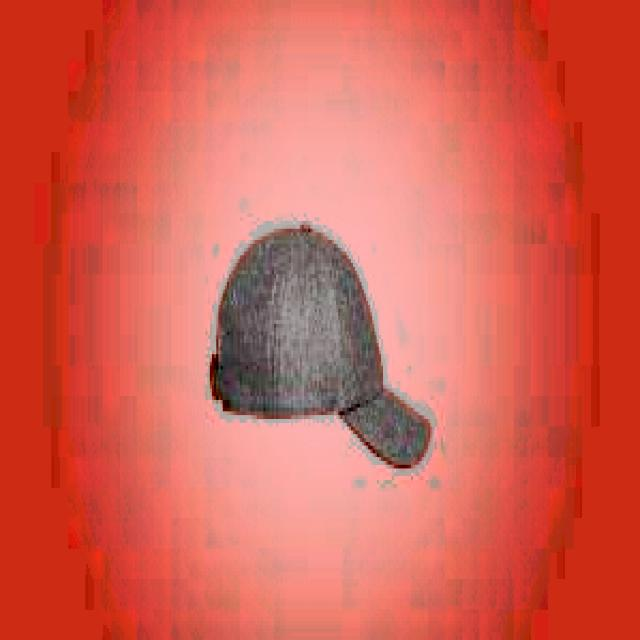TOPI: (204, 213, 430, 472)
